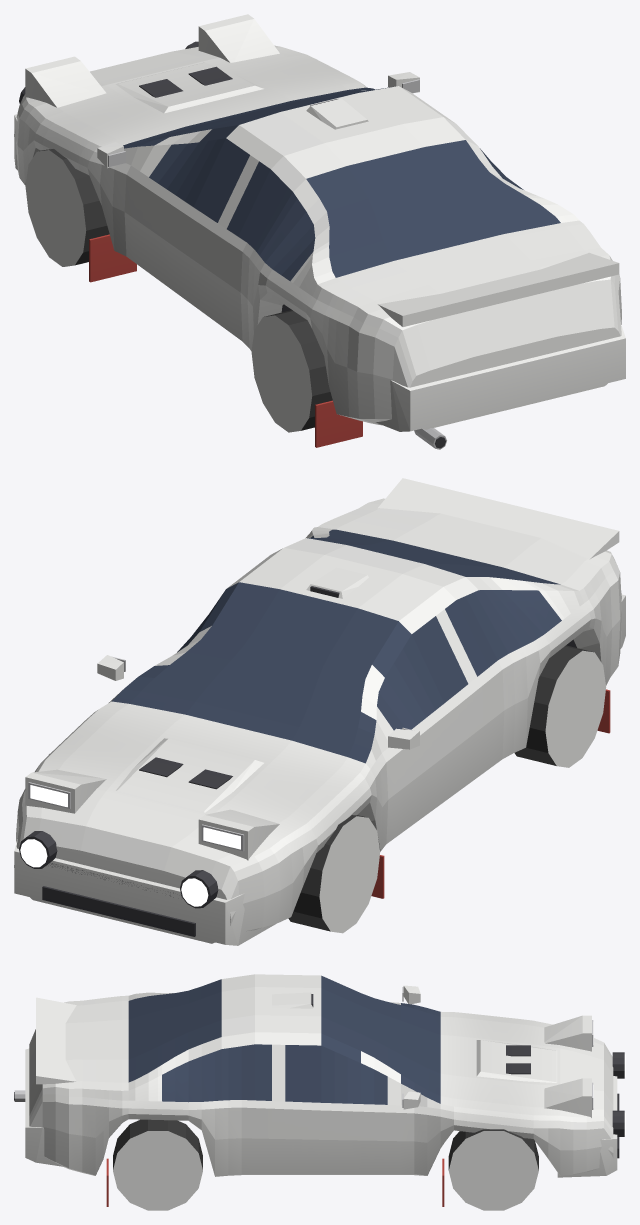
The model's file is celica.glb.
3 views of the same model, one above another, from view 1: azimuth 30°, elevation 25°; view 2: azimuth 150°, elevation 25°; view 3: azimuth 270°, elevation 25° (orthographic). The views are drawn at different scales.
Visible parts, largest first — view 1: Body, Bumper_R, Wheel_RL, Wheel_FL, Spoiler, MudFlaps; view 2: Body, Bumper_F, Wheel_RL, Wheel_FL, Spoiler, LightPod, MudFlaps; view 3: Body, Wheel_RR, Wheel_FR, Spoiler, Bumper_R, Bumper_F, LightPod.
Part boxes in pixels (x1=…): Body: x1=14, y1=14, x2=621, y2=429; Bumper_R: x1=376, y1=325, x2=625, y2=431; Wheel_RL: x1=251, y1=310, x2=332, y2=432; Wheel_FL: x1=25, y1=149, x2=109, y2=266; Spoiler: x1=378, y1=252, x2=619, y2=326; MudFlaps: x1=89, y1=234, x2=362, y2=447; Body: x1=14, y1=498, x2=621, y2=943; Bumper_F: x1=14, y1=839, x2=276, y2=945; Wheel_RL: x1=514, y1=645, x2=606, y2=767; Wheel_FL: x1=288, y1=815, x2=380, y2=933; Spoiler: x1=378, y1=478, x2=619, y2=559; LightPod: x1=19, y1=831, x2=218, y2=908; MudFlaps: x1=371, y1=689, x2=610, y2=898; Body: x1=29, y1=974, x2=613, y2=1176; Wheel_RR: x1=113, y1=1119, x2=202, y2=1210; Wheel_FR: x1=448, y1=1129, x2=538, y2=1210; Spoiler: x1=36, y1=997, x2=76, y2=1084; Bumper_R: x1=25, y1=1048, x2=64, y2=1166; Bumper_F: x1=557, y1=1076, x2=619, y2=1177; LightPod: x1=612, y1=1052, x2=625, y2=1136.
Size of the model in its own units: 2.02 by 1.32 by 4.61.
